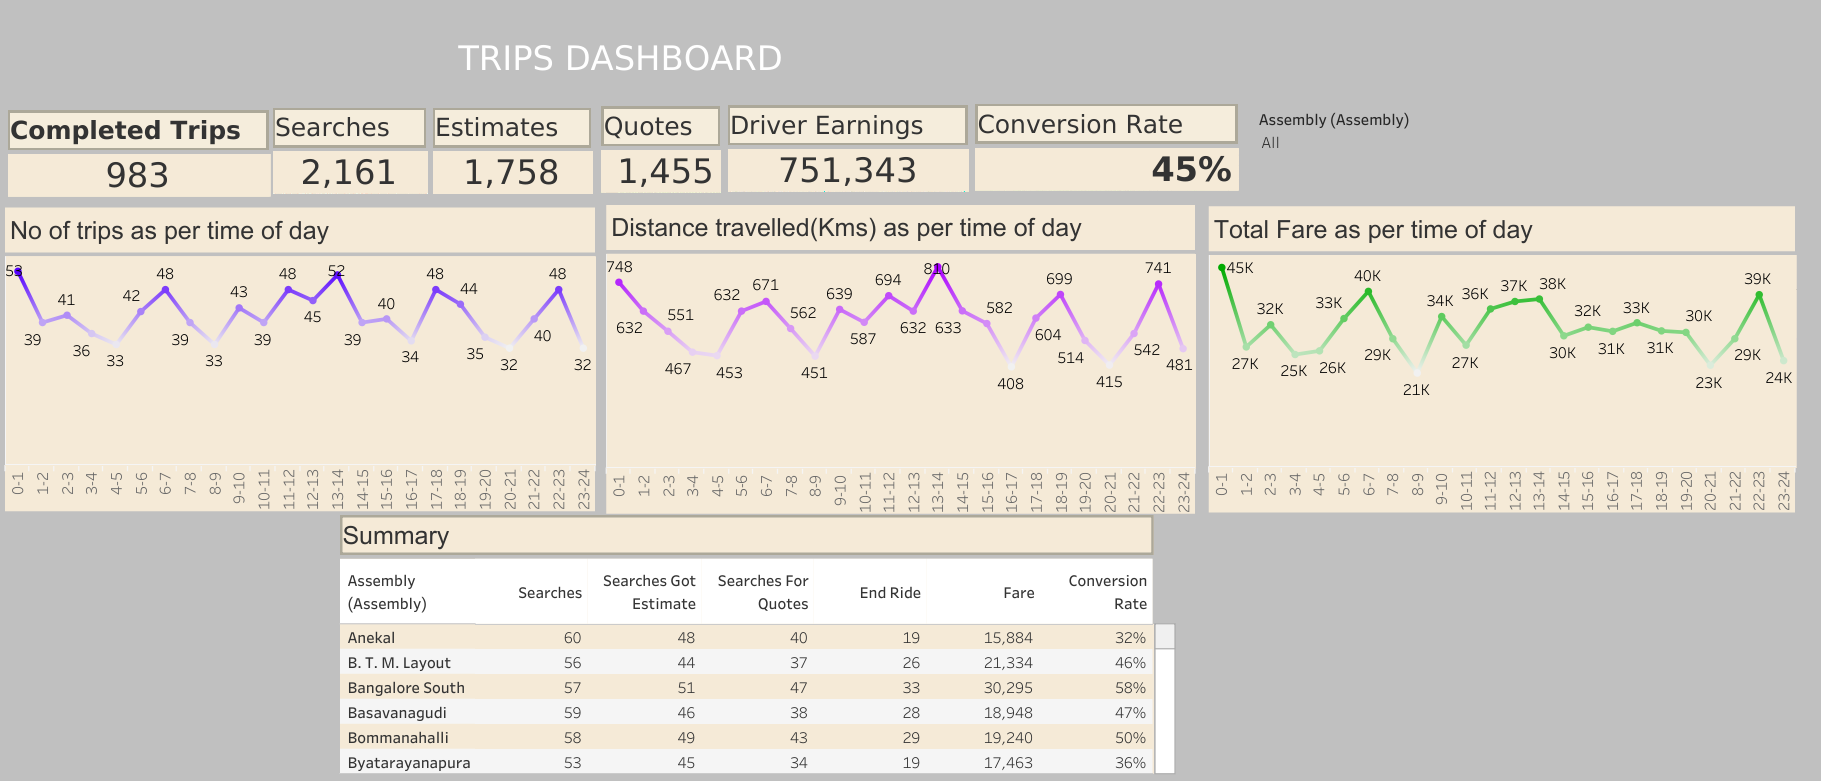

Layout of this report page (visuals, bound fields, positions):
{"tool":"tableau","page":{"name":"Dashboard 1","canvas":[1000,1000],"units":"permille","ordinal":0},"visuals":[{"type":"text","box":[249.8,17.6,222.7,112.8]},{"type":"worksheet","title":"Conversion Rate","mark":"Automatic","box":[534.7,132.8,144.2,115.2]},{"type":"worksheet","title":"Driver Earnings","mark":"Automatic","box":[398.9,134,132.2,119.9]},{"type":"worksheet","title":"Quotes","mark":"Automatic","box":[330.1,135.1,65.2,118.7]},{"type":"filter","title":"Completed Trips","param":"[federated.00h2gxy0vywcnn19c34qo0e51j8e].[none:Assembly:nk]","box":[691,136.3,102.6,115.2]},{"type":"worksheet","title":"Searches","mark":"Automatic","box":[149.7,137.5,84.5,121]},{"type":"worksheet","title":"Estimates","mark":"Automatic","box":[237.2,137.5,87.5,116.3]},{"type":"worksheet","title":"Completed Trips","mark":"Automatic","box":[4.2,139.8,143,114]},{"type":"worksheet","title":"Distance vs Duration ","mark":"Line","rows":["distance"],"cols":["duration (Duration)"],"box":[332.9,262,322.6,394.8]},{"type":"worksheet","title":"Fare vs Duration ","mark":"Line","rows":["fare"],"cols":["duration (Duration)"],"box":[663.2,263.2,321.7,391.3]},{"type":"worksheet","title":"Trips vs Duration","mark":"Line","rows":["Trips_05C1D7F8DED64C1AA59C3A7BDA8C6E4D"],"cols":["duration (Duration)"],"box":[3.1,264.4,323.2,388.9]},{"type":"worksheet","title":"Summary","mark":"Automatic","rows":["Assembly"],"box":[186.5,658.1,459.3,332.6]}]}

Visuals, with their boxes on the dashboard's canvas, which has no fixed pixel size, in thousandths of its width and height (x1, y1, x2, y2). These are canvas units, not pixel positions in the 1821x781 screenshot, which may show the page scaled, cropped or inside an application window:
text: [250, 18, 472, 130]
"Conversion Rate" worksheet: [535, 133, 679, 248]
"Driver Earnings" worksheet: [399, 134, 531, 254]
"Quotes" worksheet: [330, 135, 395, 254]
"Completed Trips" filter: [691, 136, 794, 252]
"Searches" worksheet: [150, 138, 234, 258]
"Estimates" worksheet: [237, 138, 325, 254]
"Completed Trips" worksheet: [4, 140, 147, 254]
"Distance vs Duration " worksheet (Line marks): [333, 262, 656, 657]
"Fare vs Duration " worksheet (Line marks): [663, 263, 985, 654]
"Trips vs Duration" worksheet (Line marks): [3, 264, 326, 653]
"Summary" worksheet: [186, 658, 646, 991]
